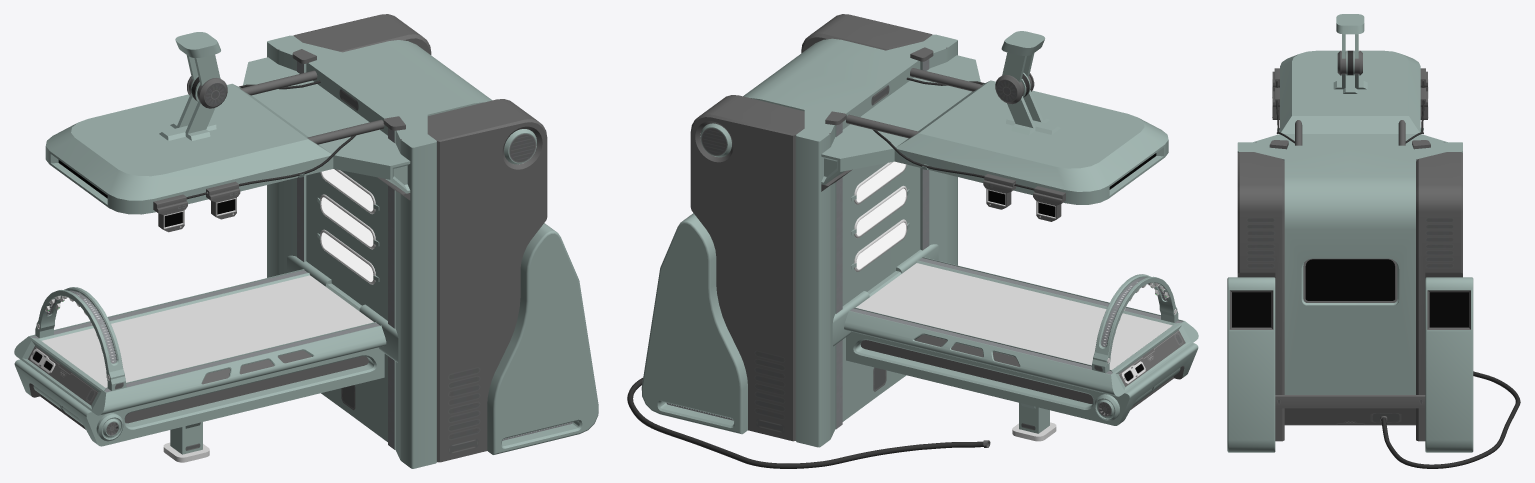
File: medical-table.glb
3 renders of one model, left to right at view 1: azimuth 30°, elevation 25°; view 2: azimuth 150°, elevation 25°; view 3: azimuth 270°, elevation 25°, orthographic. The views are drawn at different scales.
Visible parts, largest first — view 1: OperatingTable, Decal_Atlas, Operating_Scanner; view 2: OperatingTable, Decal_Atlas, Operating_Scanner, Cable; view 3: OperatingTable, Decal_Atlas, Cable.
Boxes of the visible parts, x1,y1,x2,y2 form: OperatingTable: (14,14,598,468); Decal_Atlas: (32,83,536,453); Operating_Scanner: (35,287,126,390); OperatingTable: (641,14,1198,447); Decal_Atlas: (701,79,1183,433); Operating_Scanner: (1092,274,1178,373); Cable: (627,378,990,468); OperatingTable: (1227,14,1473,452); Decal_Atlas: (1246,217,1453,422); Cable: (1381,371,1520,468).
Size of the model in its own units: 4.2 by 3.29 by 2.76.
4 materials, 1 textured.
